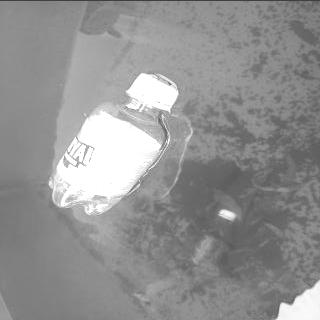bottle: (43, 70, 182, 217)
